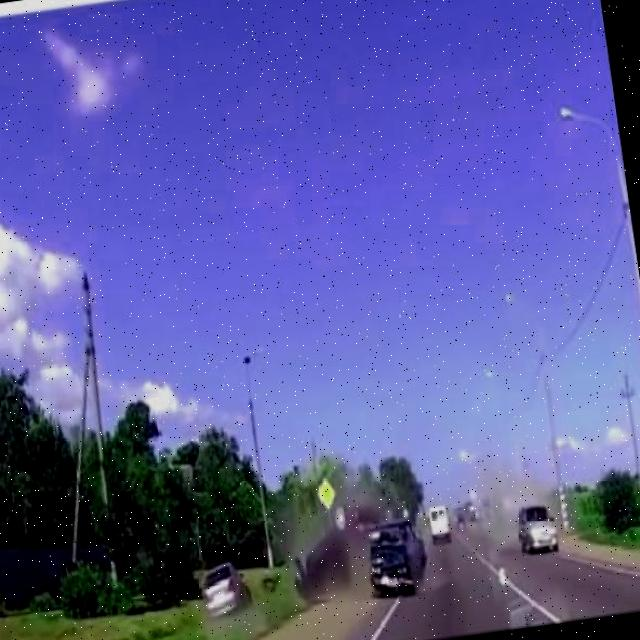accident: (286, 510, 434, 612)
